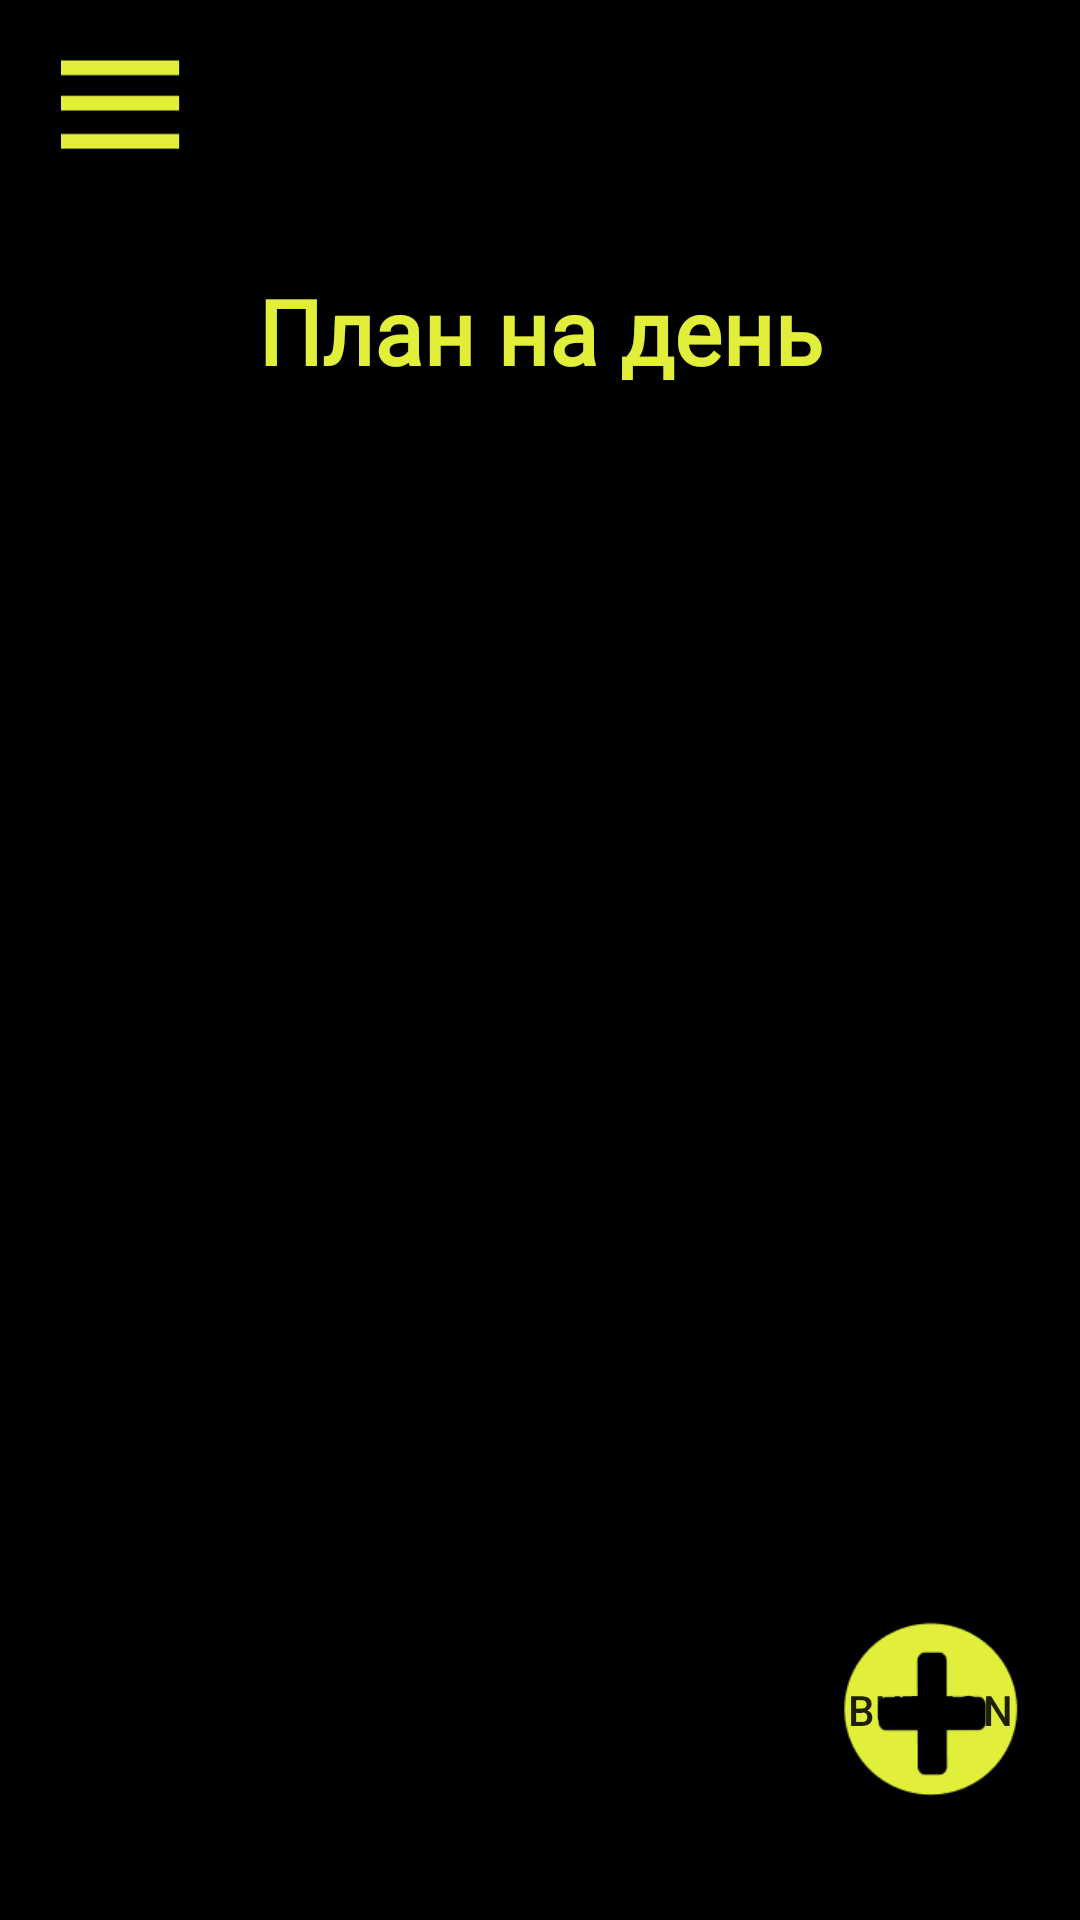

Screen size 1080px x 1920px. Icon name, then its center in pixels as point (x, y):
menu: point (120, 104)
